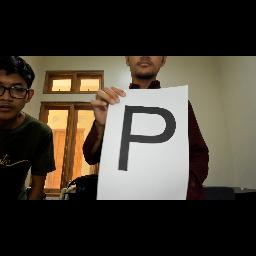p: (114, 100, 176, 182)
